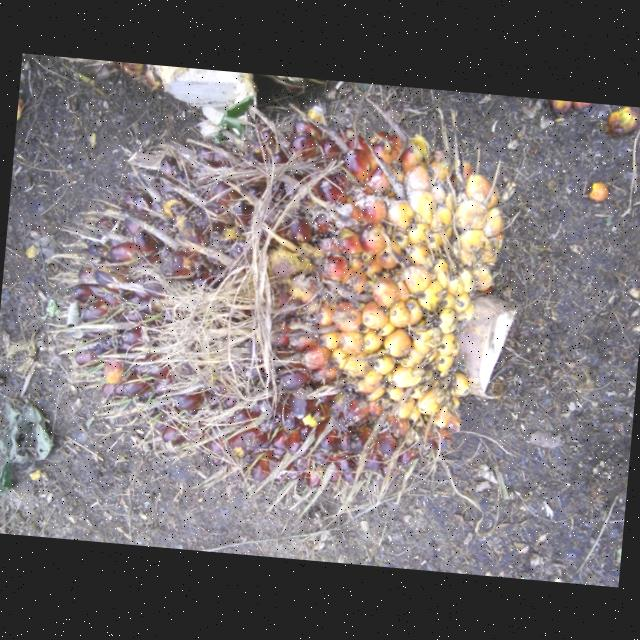Ripe: (62, 126, 505, 482)
